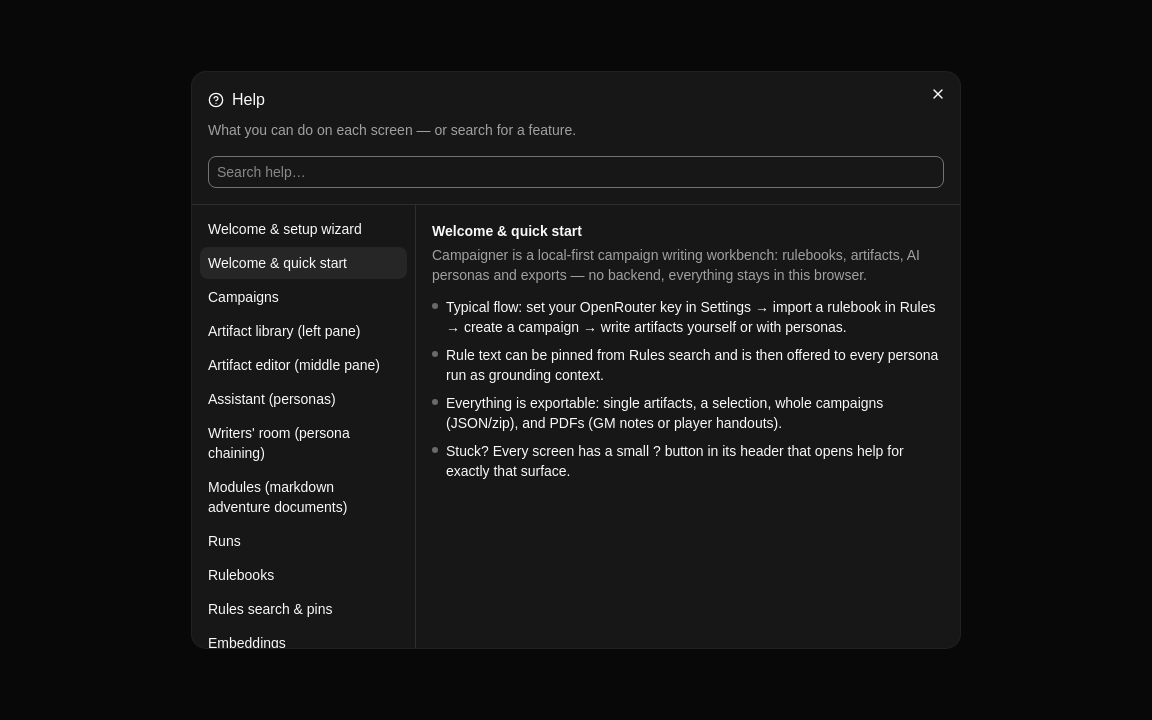
it: HelpDialog › filters topics by search text
Type "embedding" into the field with test id "help-search".
click(576, 172); type("embedding")  # box [208,156,944,188]
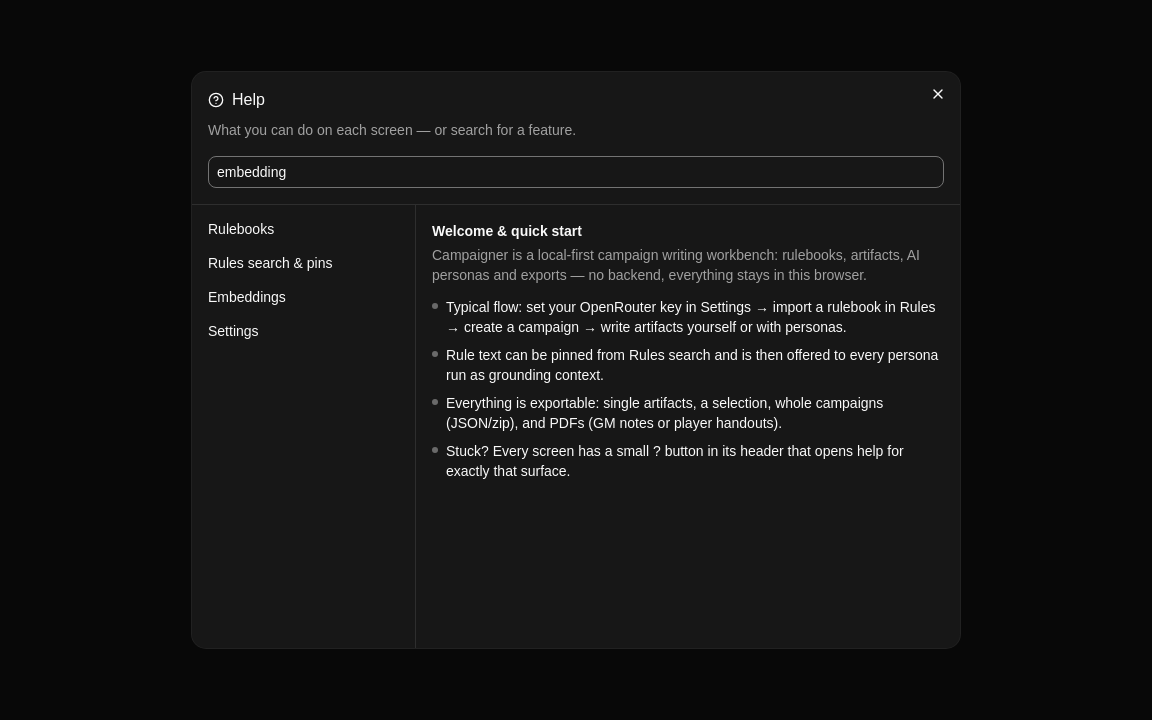
Expected: the button "Embeddings" is shown, [200,281,407,313]
Expected: the button "Wiki-link graph" is not shown
Replace the text in the field with test id "help-search" with "zzzz-nothing" at {"x": 576, "y": 172}, box [208,156,944,188]
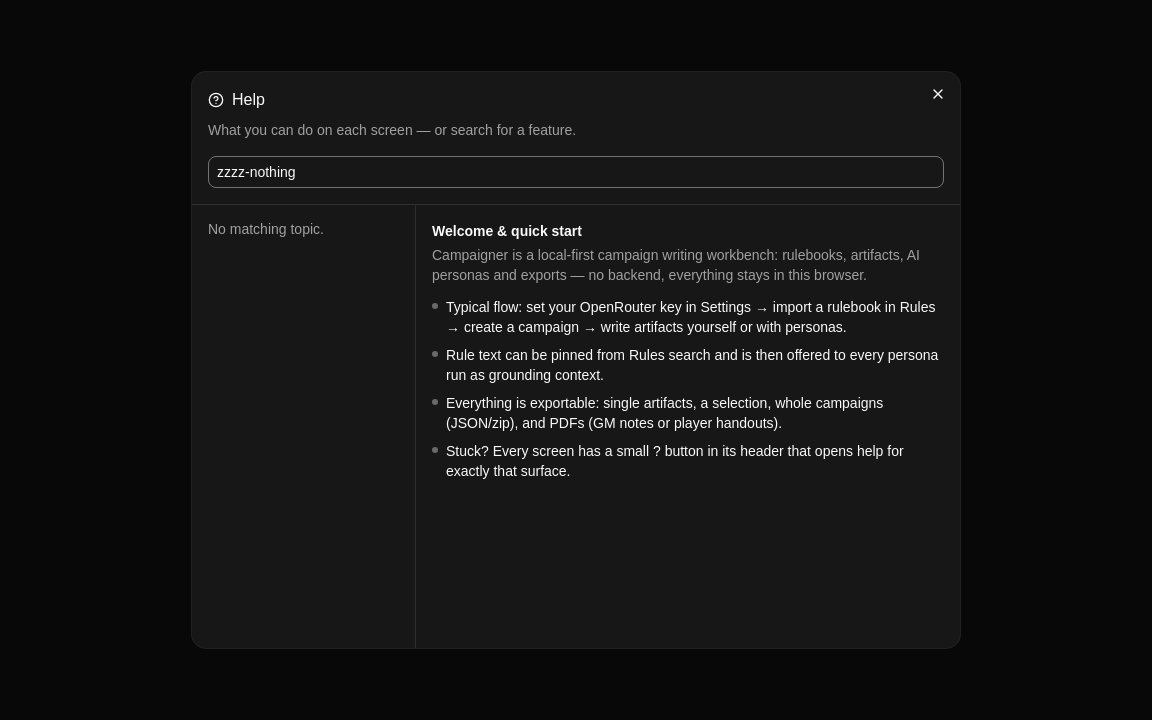
Expected: the list item "No matching topic." is shown, [208,221,324,237]
